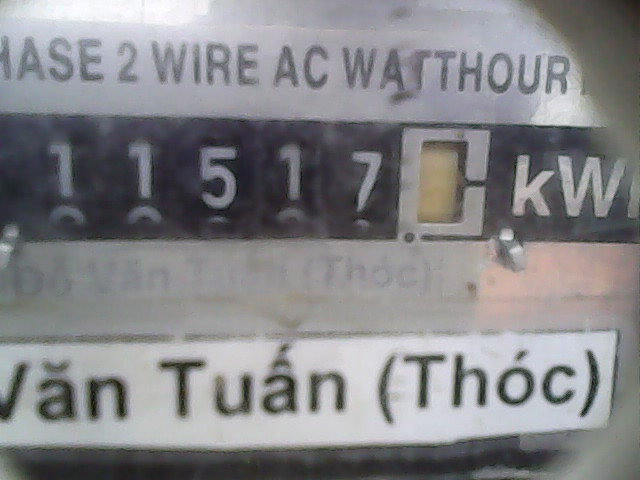phy_plate: (16, 117, 497, 242)
